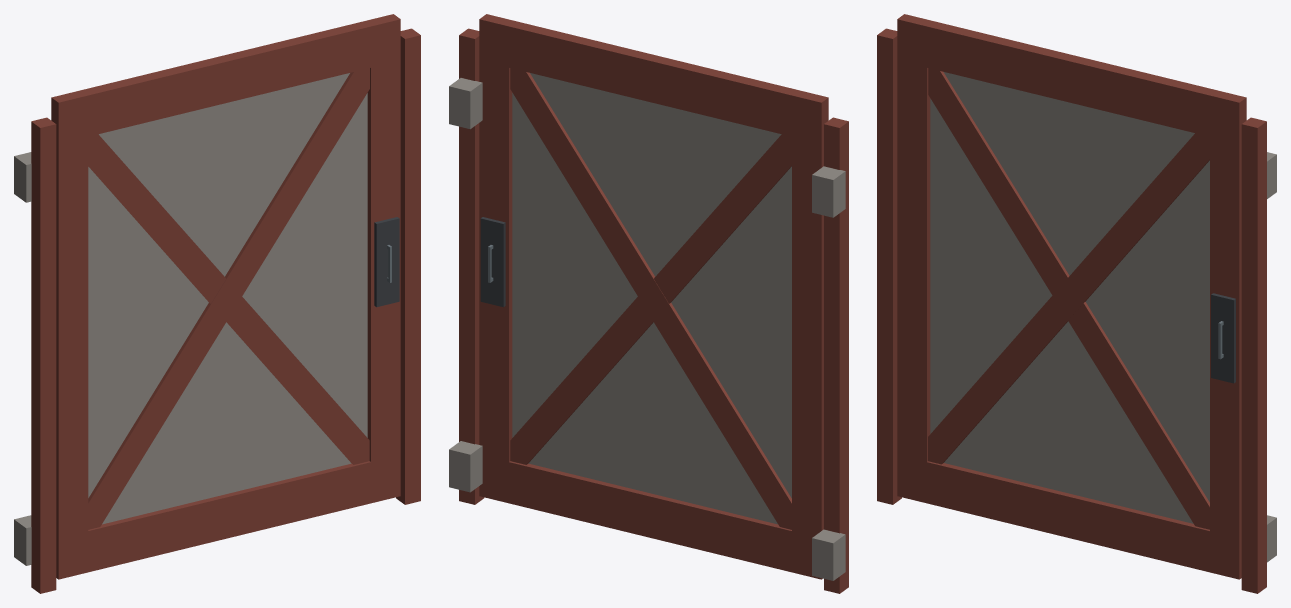
Rendered from Wicket_03_B.gltf.
3 views of the same model, side by side, from view 1: azimuth 30°, elevation 25°; view 2: azimuth 150°, elevation 25°; view 3: azimuth 330°, elevation 25° (orthographic).
Parts seen in each view (by area): view 1: WicketDoor_03_B, Wicket_03_B; view 2: WicketDoor_03_B, Wicket_03_B; view 3: WicketDoor_03_B, Wicket_03_B.
Part boxes in pixels (left/top/right/bottom): WicketDoor_03_B: left=51, top=14, right=400, bottom=579; Wicket_03_B: left=14, top=28, right=420, bottom=593; WicketDoor_03_B: left=479, top=14, right=828, bottom=579; Wicket_03_B: left=449, top=28, right=848, bottom=593; WicketDoor_03_B: left=897, top=14, right=1246, bottom=579; Wicket_03_B: left=877, top=28, right=1276, bottom=593.
Bounding box in the file's own units: 0.6578 × 0.7911 × 0.0737.
